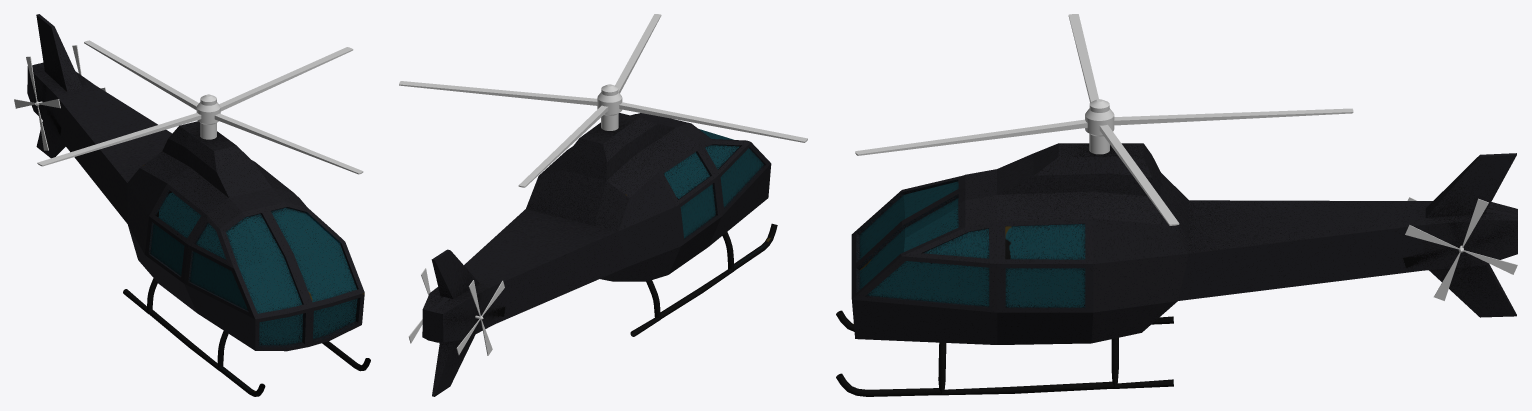
Rendered from anim_000057.obj.
The picture shows the model from 3 angles, left to right: view 1: azimuth 30°, elevation 25°; view 2: azimuth 150°, elevation 25°; view 3: azimuth 270°, elevation 25°; orthographic projection. The views are drawn at different scales.
Parts seen in each view (by area): view 1: Helicopter.007_Cylinder.008, Helicopter.001_Cylinder.001, Helicopter.004_Cylinder.005; view 2: Helicopter.007_Cylinder.008, Helicopter.001_Cylinder.001, Helicopter.004_Cylinder.005; view 3: Helicopter.007_Cylinder.008, Helicopter.001_Cylinder.001, Helicopter.003_Cylinder.004.
Part boxes in pixels (bbox=[...]): Helicopter.007_Cylinder.008: bbox=[27, 14, 370, 396]; Helicopter.001_Cylinder.001: bbox=[37, 40, 363, 174]; Helicopter.004_Cylinder.005: bbox=[14, 56, 60, 150]; Helicopter.007_Cylinder.008: bbox=[422, 113, 777, 396]; Helicopter.001_Cylinder.001: bbox=[399, 14, 807, 187]; Helicopter.004_Cylinder.005: bbox=[456, 280, 504, 355]; Helicopter.007_Cylinder.008: bbox=[836, 143, 1517, 396]; Helicopter.001_Cylinder.001: bbox=[855, 14, 1353, 225]; Helicopter.003_Cylinder.004: bbox=[1405, 198, 1517, 300].
Bounding box in the file's own units: 5.47 × 3.21 × 7.49.
